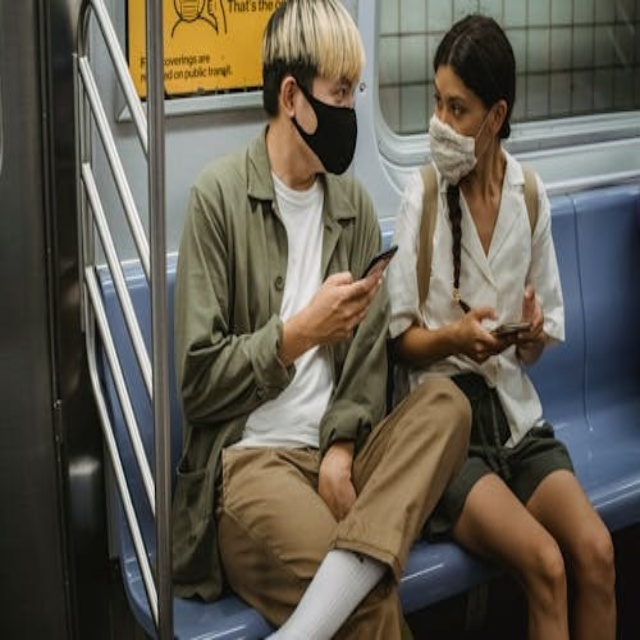Mascara: (289, 81, 357, 174), (428, 111, 484, 185)
Sin_gafas: (429, 77, 474, 121), (316, 77, 358, 106)
Sin_guantes: (301, 256, 389, 352), (451, 300, 503, 369), (506, 283, 547, 362)
